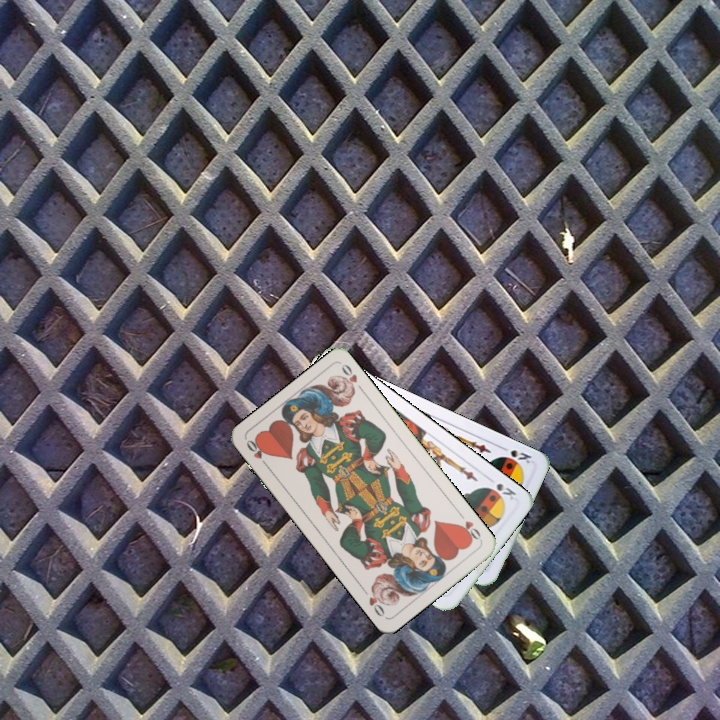HO: (242, 435, 272, 471), (454, 509, 484, 544)
SK: (496, 442, 534, 467), (492, 479, 519, 504)
